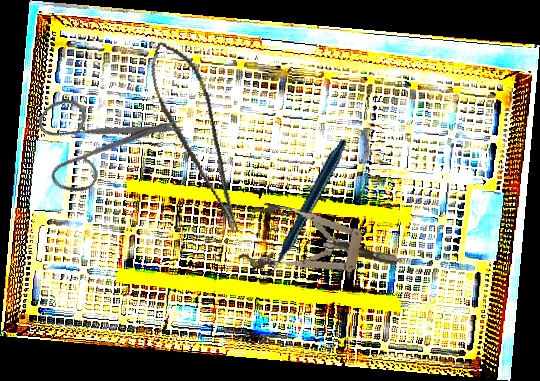Handpiece: (223, 137, 384, 279)
Iris Scissors: (12, 46, 190, 225)
Micro Scissor: (141, 32, 246, 244)
Speculum: (237, 199, 404, 295)
